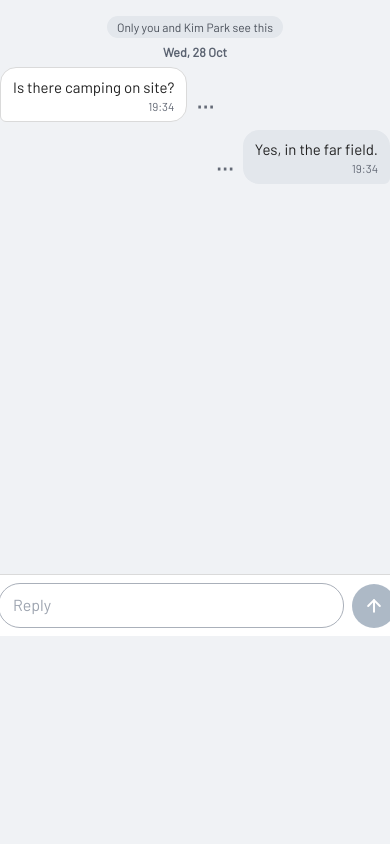
an organiser › keeps a message when the question is answered no, and says so when it cannot be deleted
Check: the text "Is there camping on site?" is shown, box [13, 78, 174, 96]
Click the button "⋯" next to "Is there camping on site?" at x=205, y=106, box [189, 90, 221, 122]
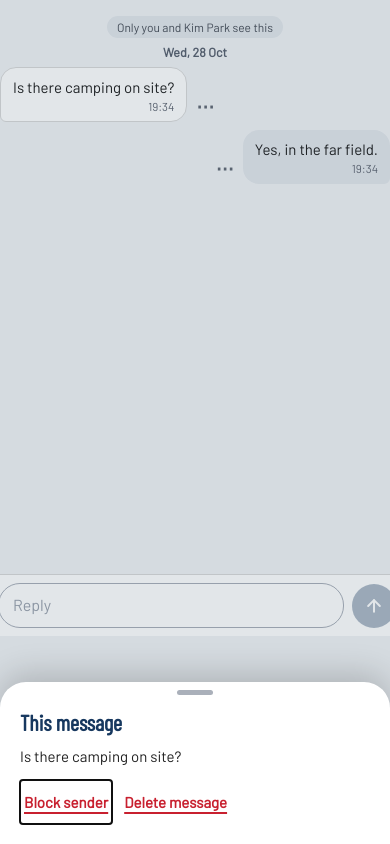
Click the button "Delete message" at x=176, y=802, box [120, 780, 231, 824]
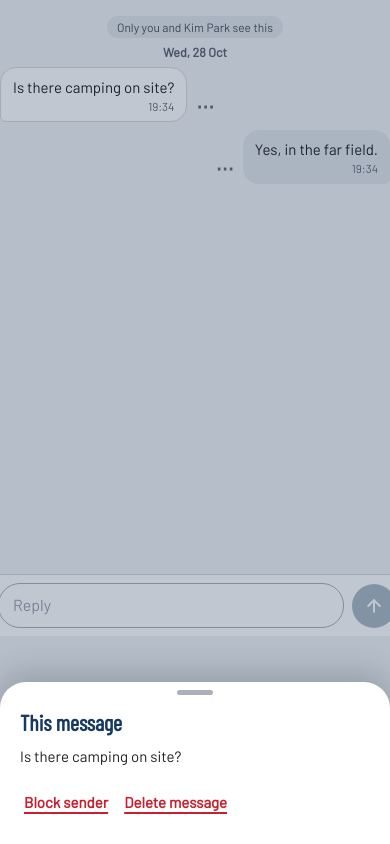
Click the button "Delete message" at x=176, y=802, box [120, 780, 231, 824]
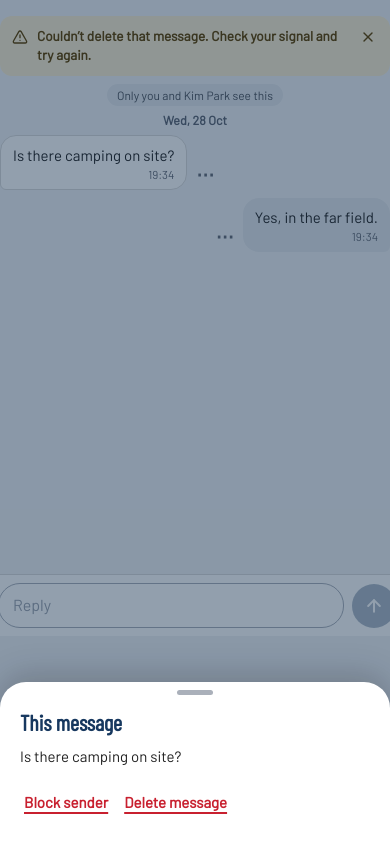
Check: the text "Is there camping on site?" is shown, box [13, 146, 174, 164]
Check: the text "Couldn’t delete that message. Check your signal and try again." is shown, box [37, 27, 345, 65]
